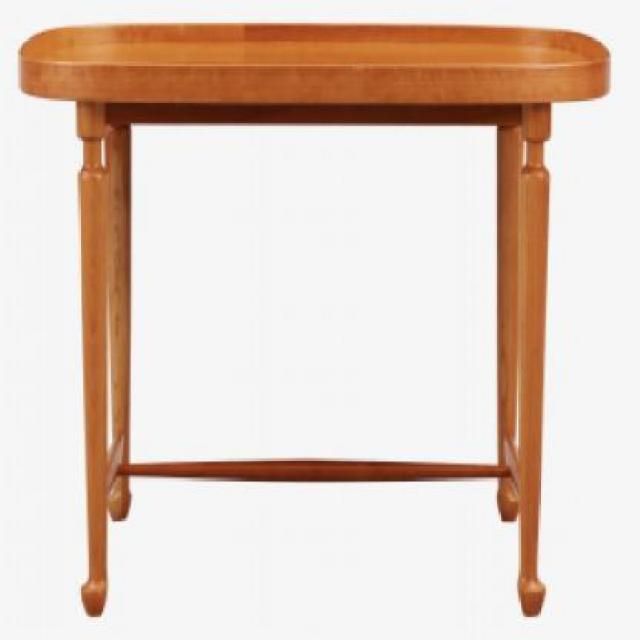mobile-phone: (20, 16, 611, 624)
